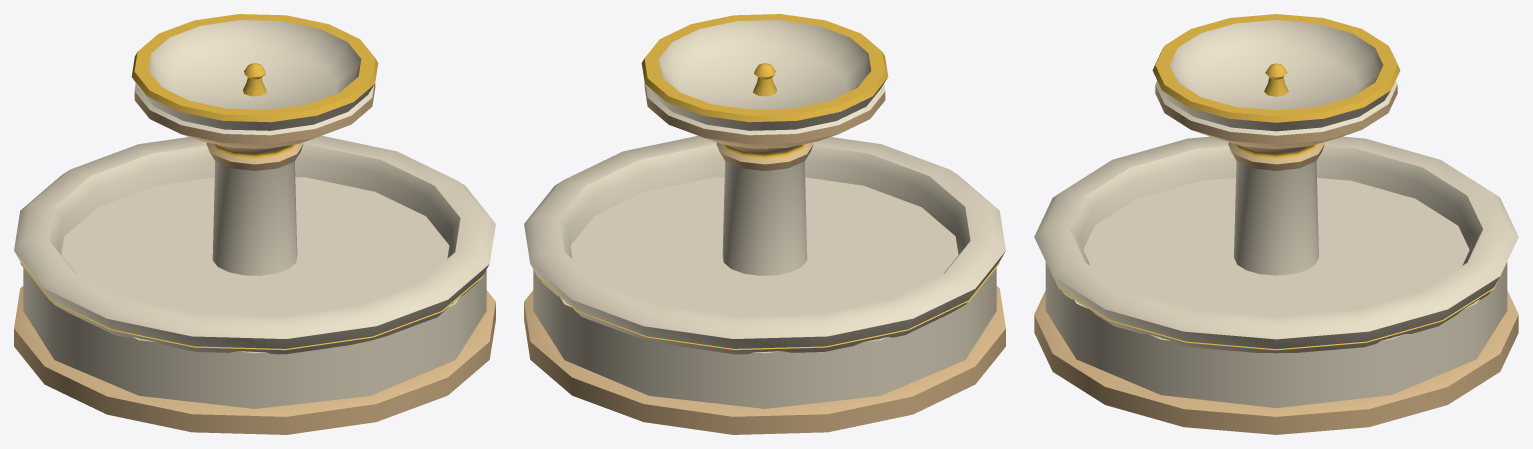
Rendered from dry-fountain.lod1.glb.
3 renders of one model, left to right at view 1: azimuth 30°, elevation 25°; view 2: azimuth 150°, elevation 25°; view 3: azimuth 270°, elevation 25°, orthographic.
Parts seen in each view (by area): view 1: dry-fountain_lod1; view 2: dry-fountain_lod1; view 3: dry-fountain_lod1.
Boxes of the visible parts, x1=… form: dry-fountain_lod1: x1=14, y1=14, x2=495, y2=434; dry-fountain_lod1: x1=524, y1=14, x2=1005, y2=434; dry-fountain_lod1: x1=1034, y1=14, x2=1518, y2=434.
Size of the model in its own units: 3.4 by 2.08 by 3.4.
